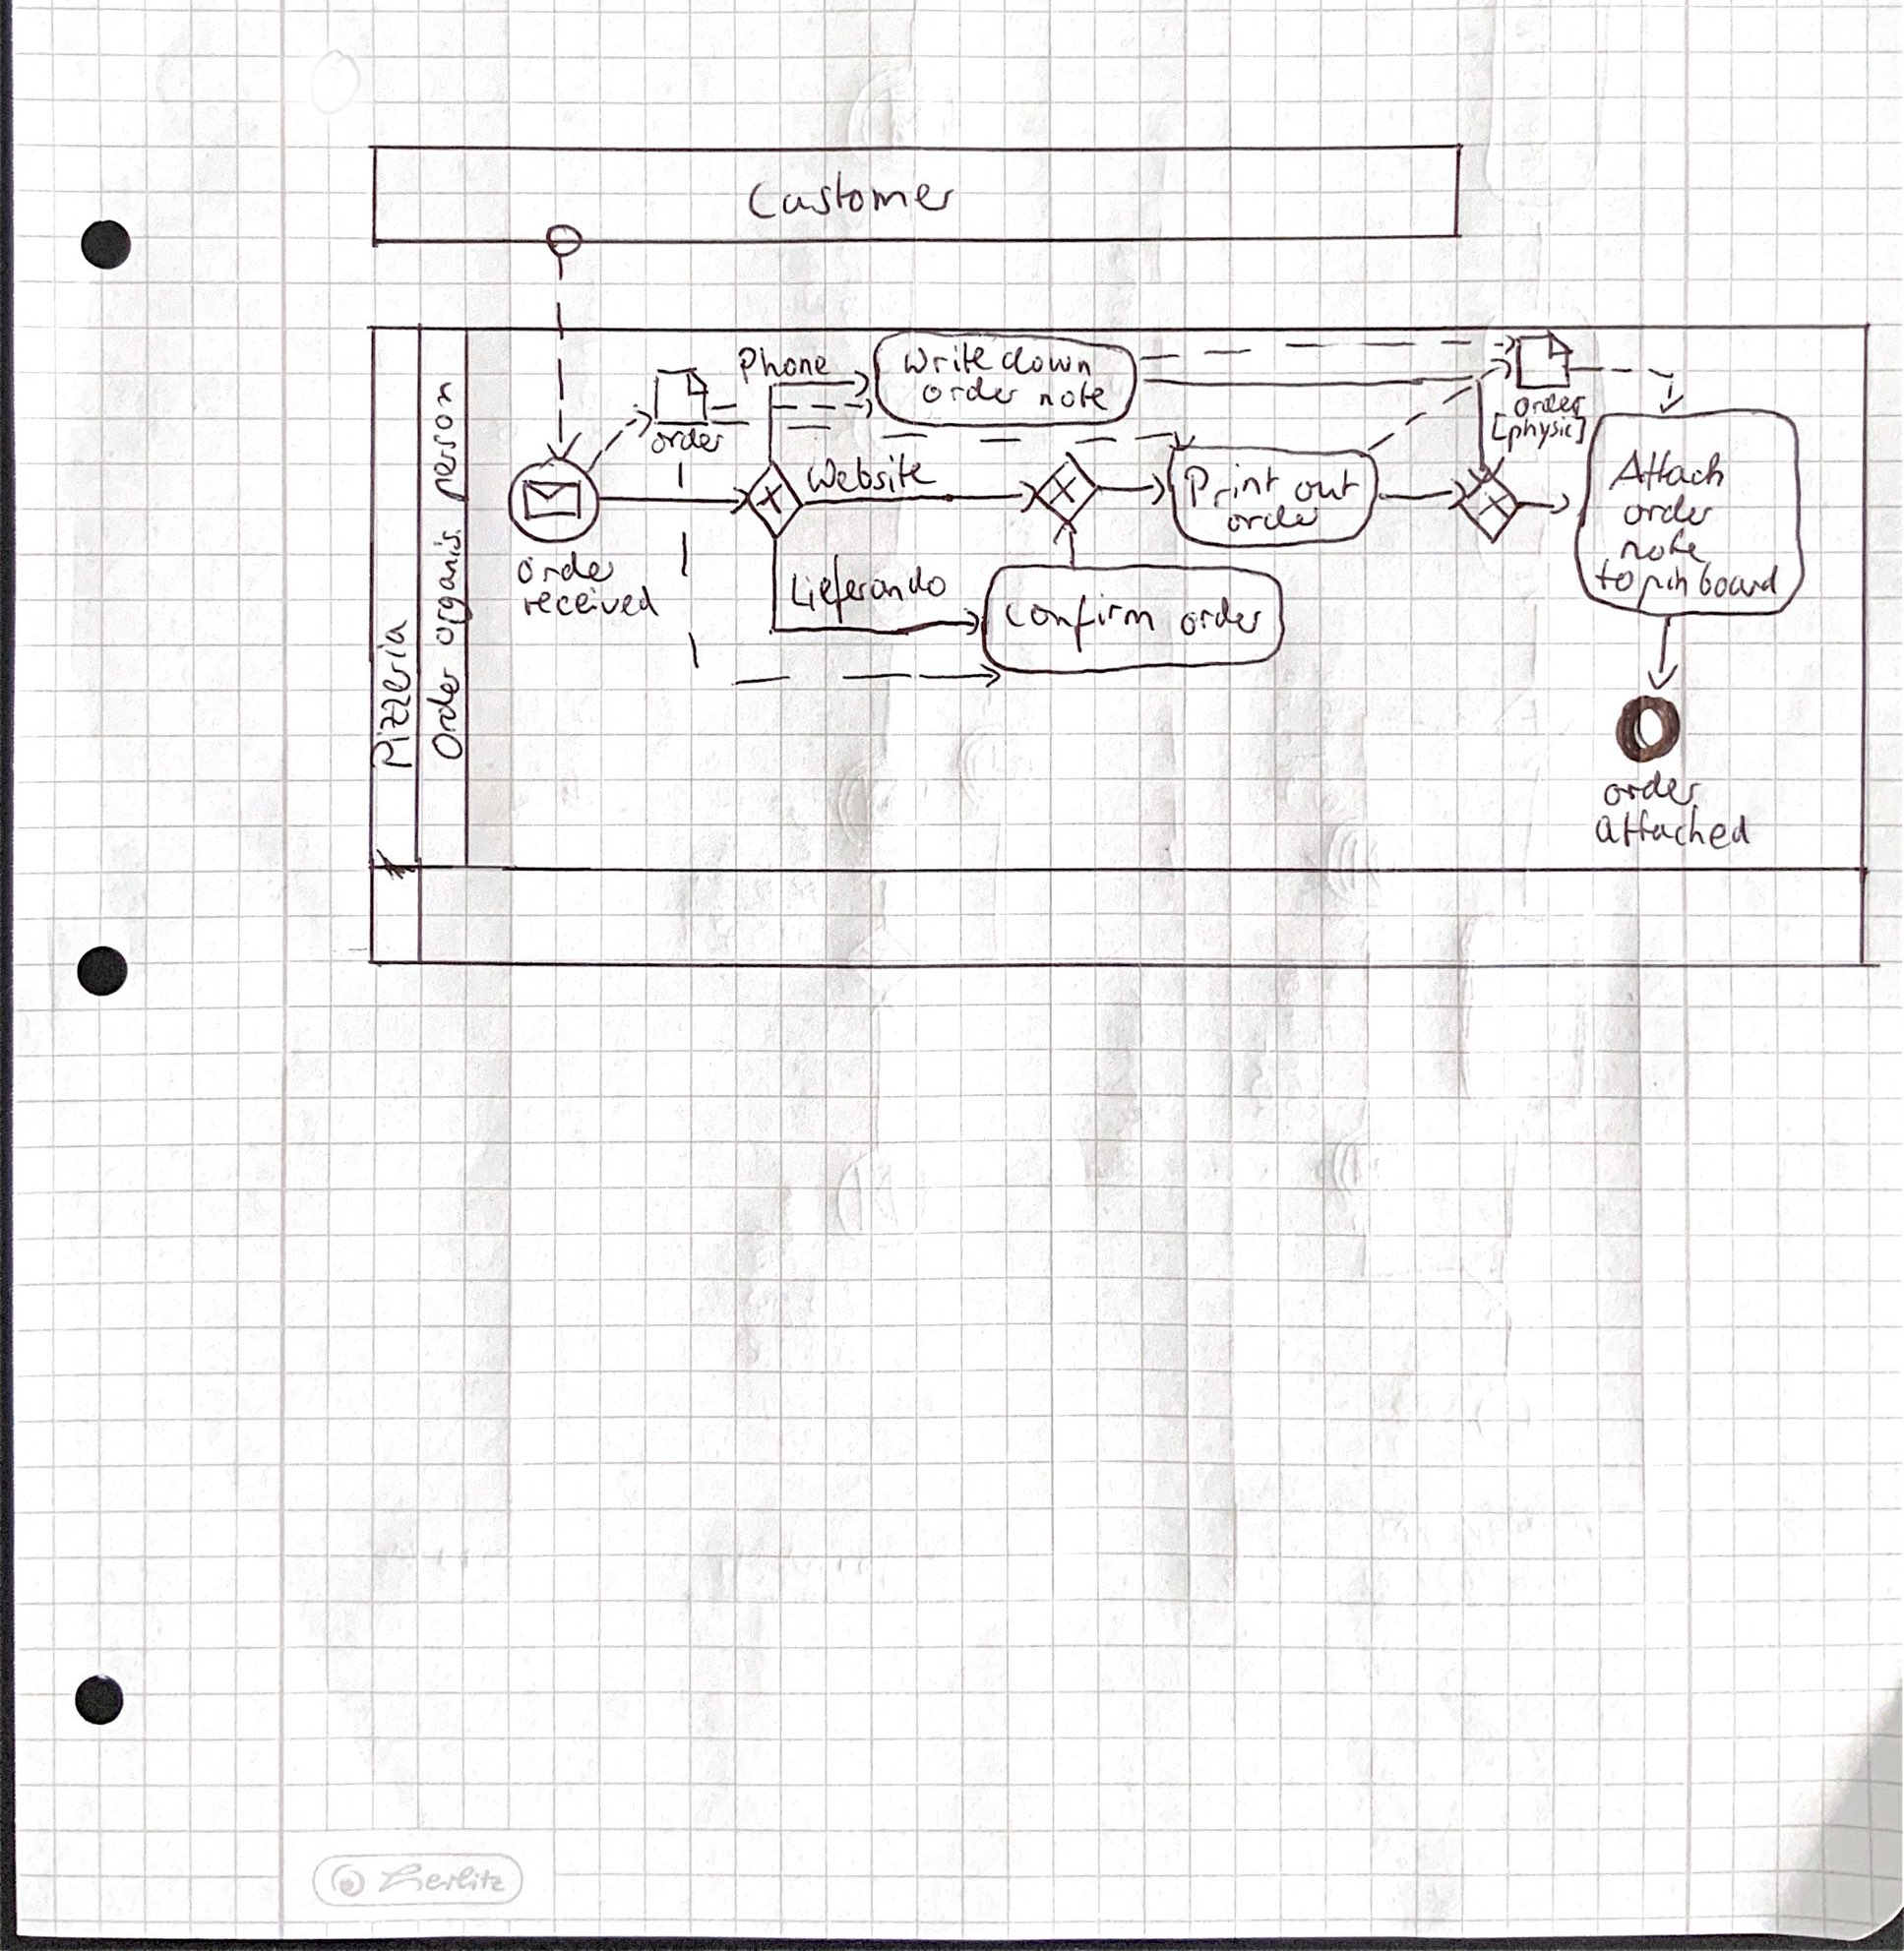Attach: (1607, 448, 1727, 495)
Customer: (745, 166, 958, 223)
Lieferando: (787, 551, 953, 626)
Order: (424, 663, 464, 762)
Phone: (735, 346, 832, 384)
Pizzeria: (374, 618, 417, 771)
Print: (1185, 460, 1284, 509)
Website: (805, 451, 936, 496)
[physic]: (1488, 414, 1589, 451)
attached: (1591, 803, 1755, 849)
confirm: (1002, 590, 1163, 656)
down: (997, 342, 1097, 377)
herlitz: (374, 1861, 509, 1896)
note: (1618, 526, 1706, 564), (1037, 381, 1114, 411)
order: (1176, 594, 1269, 640), (517, 550, 618, 589), (1223, 501, 1326, 535), (1620, 492, 1719, 528), (1602, 772, 1705, 808), (920, 373, 1024, 406), (648, 424, 730, 456), (1511, 392, 1588, 418)
organis: (431, 527, 474, 650)
out: (1292, 465, 1360, 506)
person: (427, 379, 468, 504)
pinboard: (1634, 563, 1785, 608)
received: (520, 585, 660, 622)
to: (1593, 557, 1638, 601)
write: (900, 340, 995, 378)
